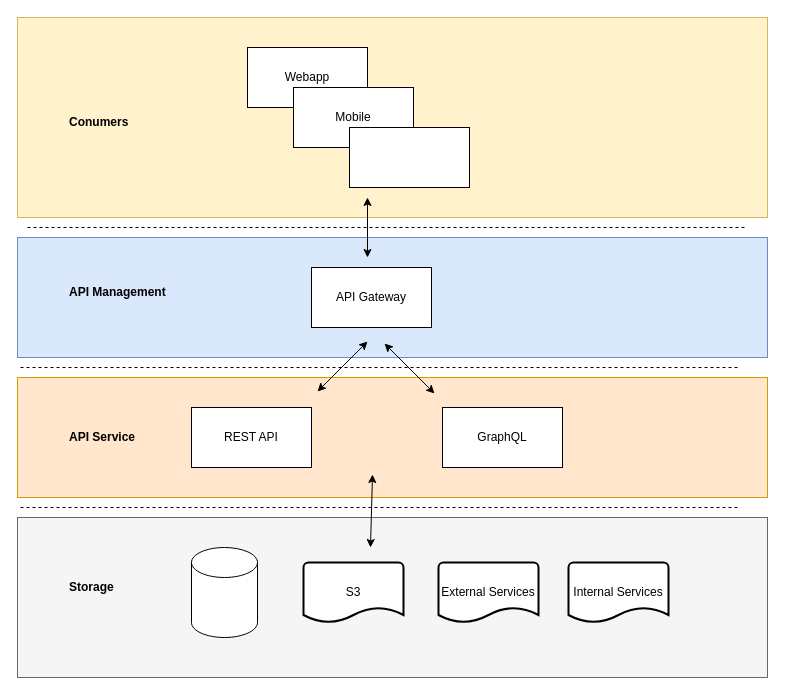
This 785x695 diagram has some shape labels left out. The shapes that lost their labels are listed below. From the top down, each one's centre as x and y in pixels, then its label:
At (x=409, y=157): "Consumers".
At (x=224, y=592): "DBs".
